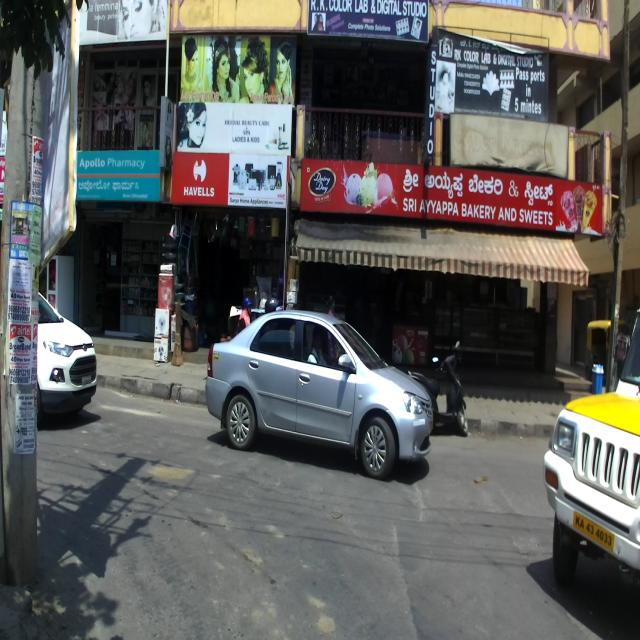car ahead at: (204, 301, 435, 482)
